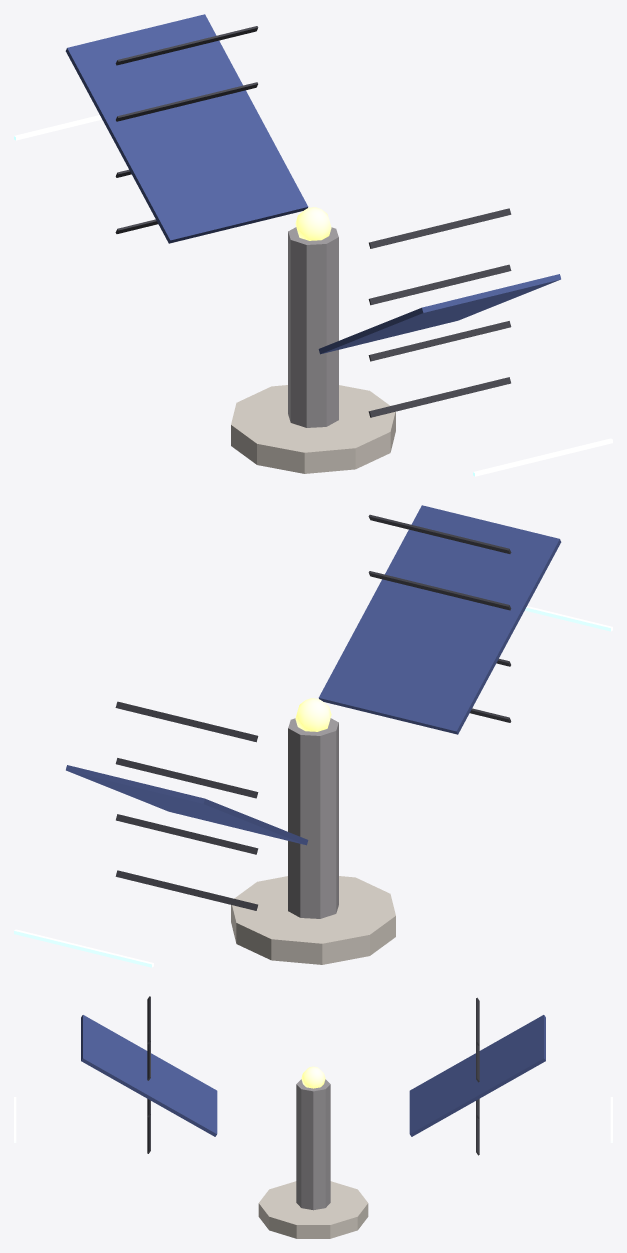
The model's file is solar_array.glb.
3 renders of one model, top to bottom at view 1: azimuth 30°, elevation 25°; view 2: azimuth 150°, elevation 25°; view 3: azimuth 270°, elevation 25°, orthographic. The views are drawn at different scales.
Parts seen in each view (by area): view 1: panel.001, foot, pylon, panel, grid.001, grid.002, grid.003, grid, solar_array, grid.007, grid.006, edge_light; view 2: panel, foot, pylon, panel.001, grid.007, grid.004, grid.006, grid.005, solar_array, grid.001, grid, edge_light.001; view 3: panel, panel.001, foot, pylon, solar_array.
Boxes of the visible parts, x1,y1,x2,y2 form: panel.001: (65, 14, 308, 243); foot: (231, 385, 395, 473); pylon: (288, 227, 338, 427); panel: (318, 274, 560, 354); grid.001: (368, 264, 511, 305); grid.002: (368, 321, 511, 361); grid.003: (368, 377, 510, 417); grid: (369, 208, 511, 248); solar_array: (295, 207, 331, 240); grid.007: (115, 26, 258, 65); grid.006: (116, 82, 257, 121); edge_light: (473, 438, 612, 476); panel: (318, 505, 561, 734); foot: (231, 876, 395, 964); pylon: (288, 718, 338, 918); panel.001: (66, 765, 308, 845); grid.007: (115, 701, 258, 742); grid.004: (115, 870, 257, 910); grid.006: (115, 758, 258, 798); grid.005: (116, 814, 258, 854); solar_array: (295, 698, 331, 731); grid.001: (368, 571, 511, 610); grid: (368, 514, 511, 553); edge_light.001: (14, 929, 153, 967); panel: (81, 1015, 217, 1136); panel.001: (409, 1015, 545, 1136); foot: (258, 1181, 368, 1238); pylon: (296, 1079, 330, 1210); solar_array: (301, 1066, 325, 1088).
Bounding box in the file's own units: 1.73 × 3.6 × 9.84.
